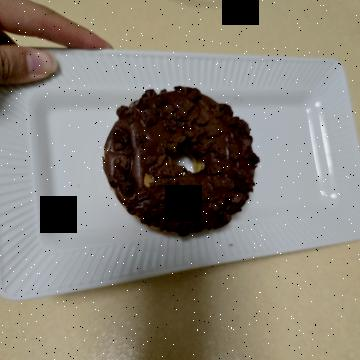doughnut: (70, 98, 249, 272)
